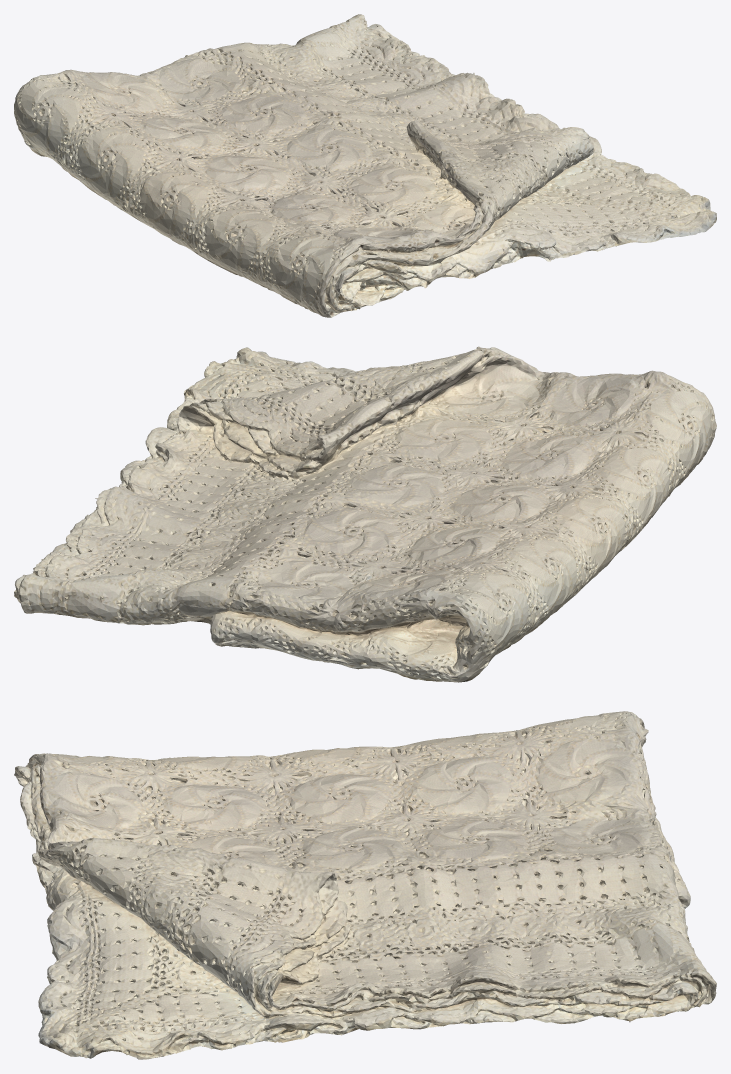
The picture shows the model from 3 angles, top to bottom: view 1: azimuth 30°, elevation 25°; view 2: azimuth 150°, elevation 25°; view 3: azimuth 270°, elevation 25°; orthographic projection. The views are drawn at different scales.
Visible parts, largest first — view 1: Decke_90k_2k; view 2: Decke_90k_2k; view 3: Decke_90k_2k.
Boxes of the visible parts, <box> form: Decke_90k_2k: <box>14,14,716,317</box>; Decke_90k_2k: <box>14,346,716,682</box>; Decke_90k_2k: <box>14,711,716,1059</box>.
Bounding box in the file's own units: 0.5222 × 0.0825 × 0.5709.
Materials: 1 (1 with a texture image).
